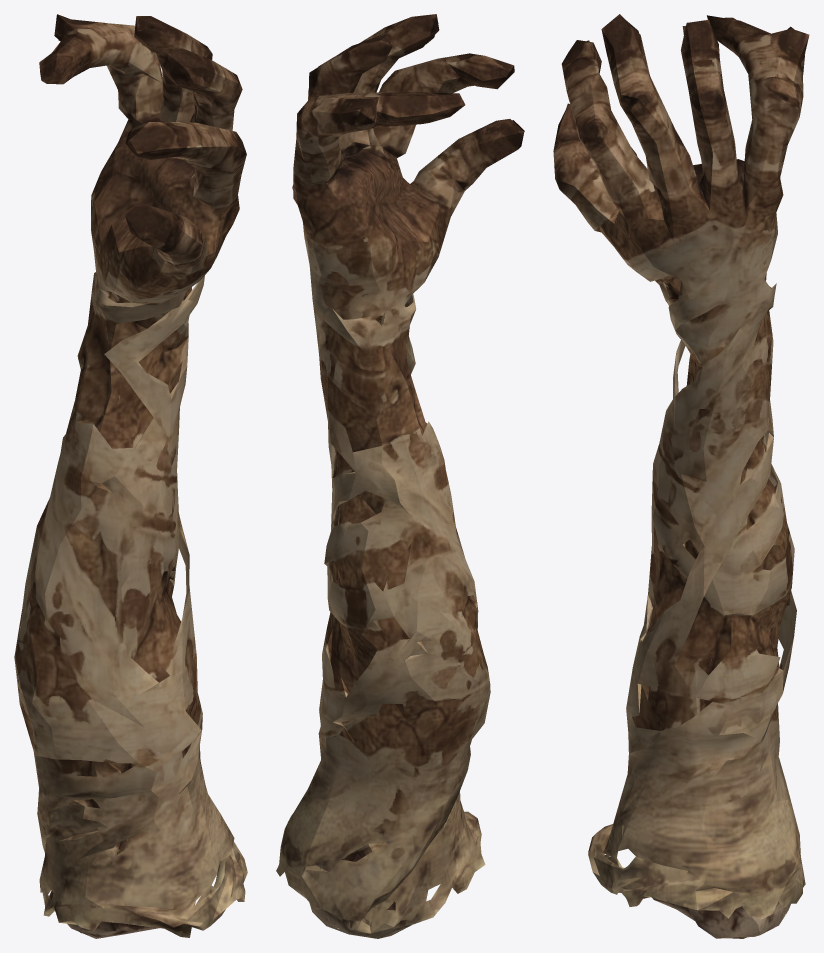
File: mummy_forearm.glb
3 views of the same model, side by side, from view 1: azimuth 30°, elevation 25°; view 2: azimuth 150°, elevation 25°; view 3: azimuth 270°, elevation 25° (orthographic). The views are drawn at different scales.
Visible parts, largest first — view 1: geometry_0; view 2: geometry_0; view 3: geometry_0.
Part boxes in pixels (box(x1,y1,x2,y2)): geometry_0: box(14, 14, 247, 938); geometry_0: box(276, 14, 524, 938); geometry_0: box(553, 14, 809, 938).
Size of the model in its own units: 0.1065 by 0.45 by 0.116.
1 material, 1 textured.
